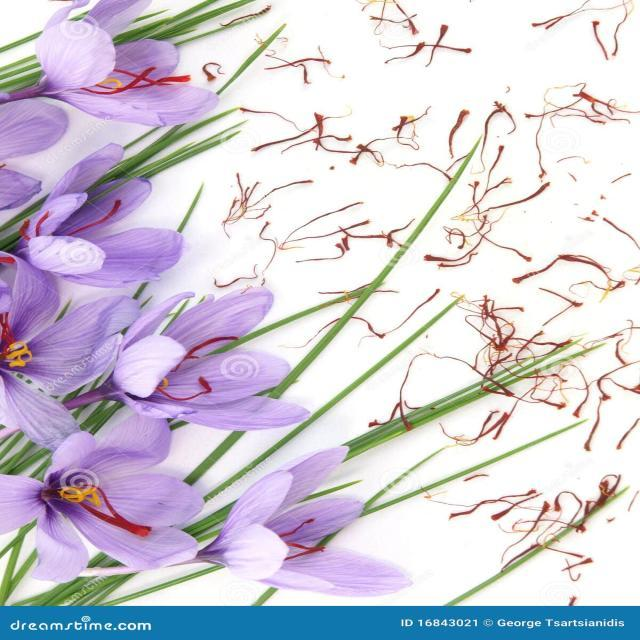Flower: (0, 418, 200, 584), (226, 472, 414, 596), (11, 172, 202, 292), (174, 280, 288, 447), (0, 283, 157, 401), (51, 19, 210, 114)
stigma: (79, 486, 154, 538), (86, 70, 195, 96), (65, 196, 125, 240), (178, 334, 242, 372), (159, 378, 214, 405), (278, 512, 320, 541), (34, 204, 52, 234)
